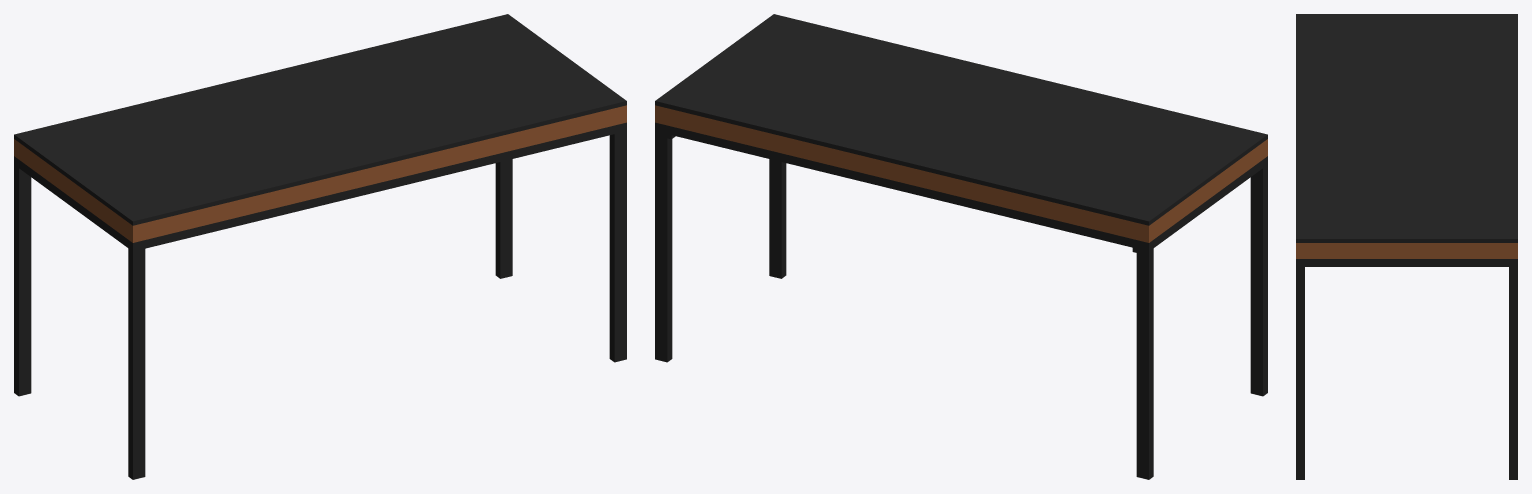
Rendered from SchoolPack-34-Scientific table.obj.
3 renders of one model, left to right at view 1: azimuth 30°, elevation 25°; view 2: azimuth 150°, elevation 25°; view 3: azimuth 270°, elevation 25°, orthographic. The views are drawn at different scales.
Visible parts, largest first — view 1: Scientific table; view 2: Scientific table; view 3: Scientific table.
Boxes of the visible parts, bbox=[...] form: Scientific table: bbox=[14, 14, 626, 479]; Scientific table: bbox=[655, 14, 1267, 479]; Scientific table: bbox=[1296, 14, 1517, 479].
Bounding box in the file's own units: 12 × 6 × 5.
Materials: 1 (1 with a texture image).
